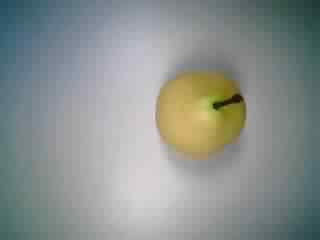pear: (147, 62, 258, 172)
